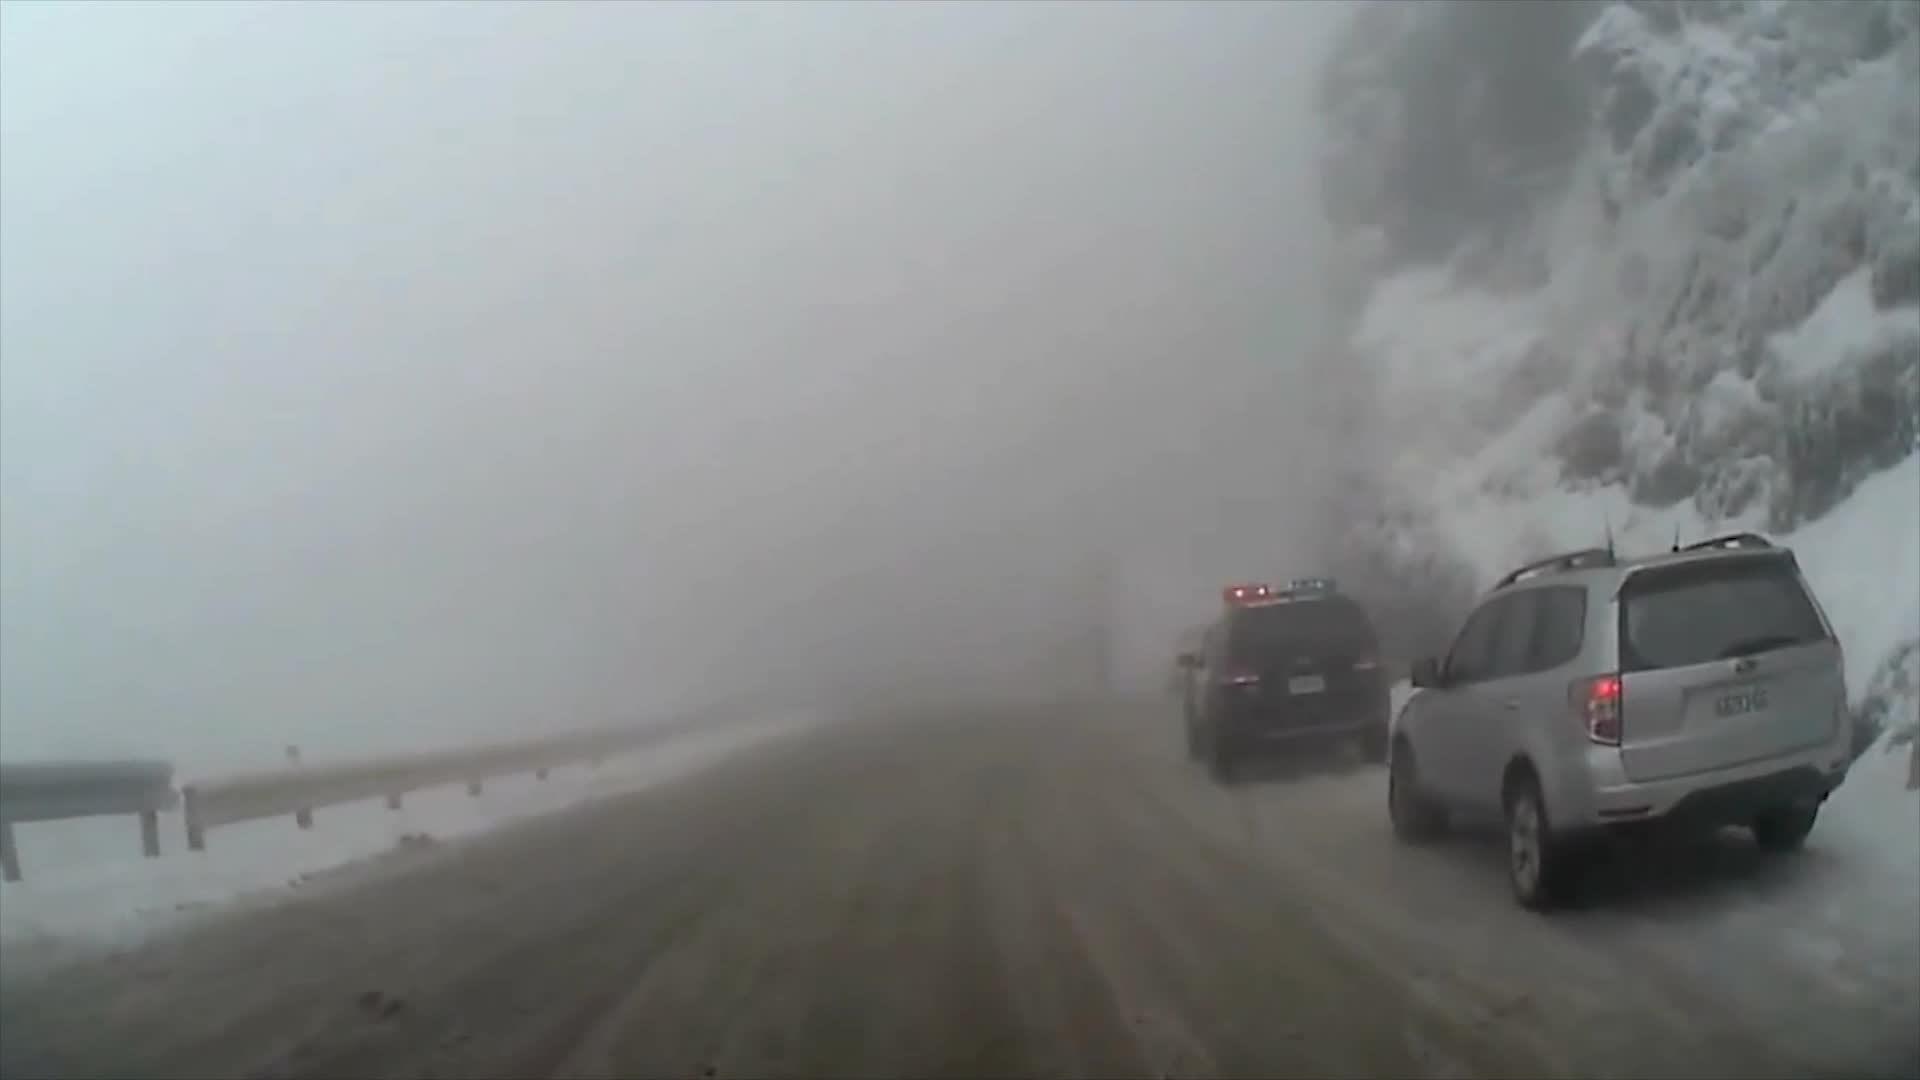vehicle: (1385, 527, 1855, 909), (1168, 576, 1387, 786)
